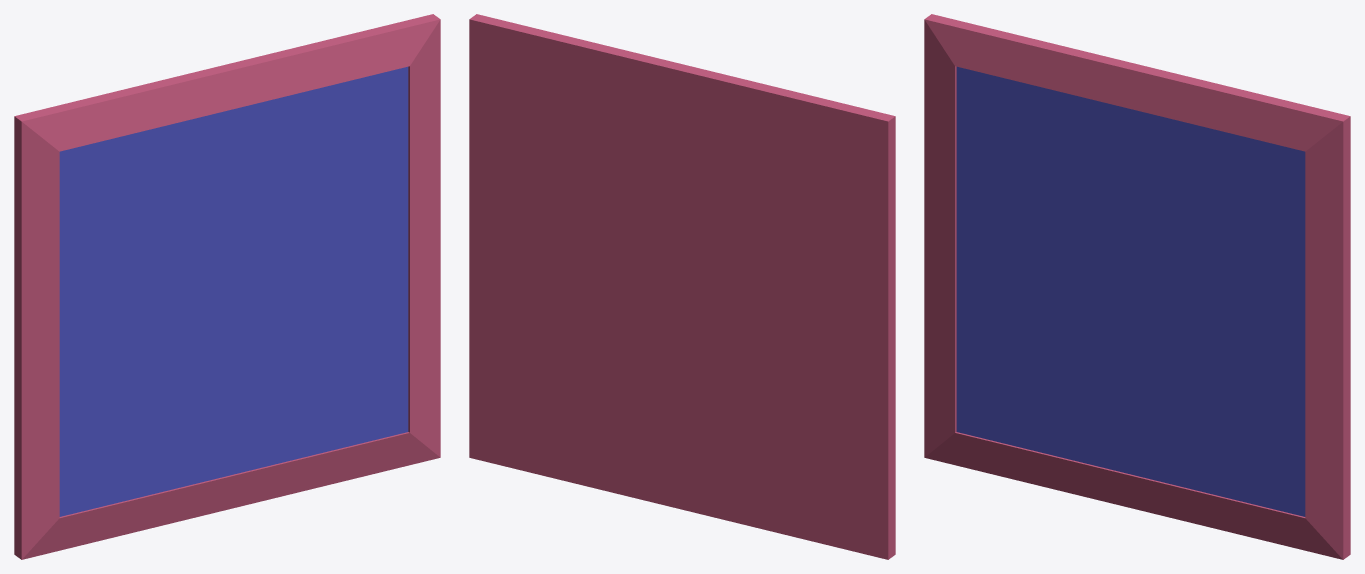
The model's file is Wall_Picture_Frame.fbx.
3 views of the same model, side by side, from view 1: azimuth 30°, elevation 25°; view 2: azimuth 150°, elevation 25°; view 3: azimuth 330°, elevation 25° (orthographic).
Visible parts, largest first — view 1: Glass, Frame; view 2: Frame; view 3: Glass, Frame.
Boxes of the visible parts, x1=… form: Glass: x1=59, y1=66, x2=408, y2=516; Frame: x1=14, y1=14, x2=440, y2=559; Frame: x1=469, y1=14, x2=895, y2=559; Glass: x1=956, y1=66, x2=1305, y2=516; Frame: x1=924, y1=14, x2=1350, y2=559.
Bounding box in the file's own units: 200 × 200 × 8.99.
